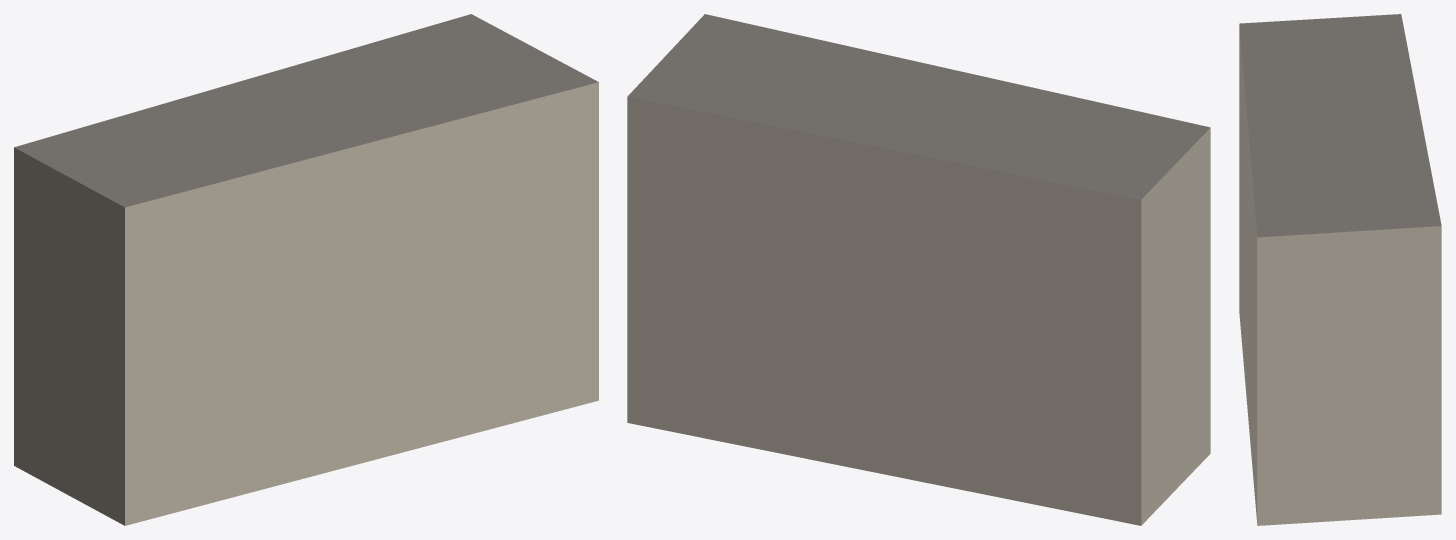
3 renders of one model, left to right at view 1: azimuth 30°, elevation 25°; view 2: azimuth 150°, elevation 25°; view 3: azimuth 270°, elevation 25°, orthographic. The views are drawn at different scales.
Visible parts, largest first — view 1: HP-w1070642158; view 2: HP-w1070642158; view 3: HP-w1070642158.
Boxes of the visible parts, x1,y1,x2,y2 form: HP-w1070642158: (14,14,598,525); HP-w1070642158: (627,14,1210,525); HP-w1070642158: (1239,14,1441,525).
Size of the model in its own units: 29.9 by 18 by 11.44.
